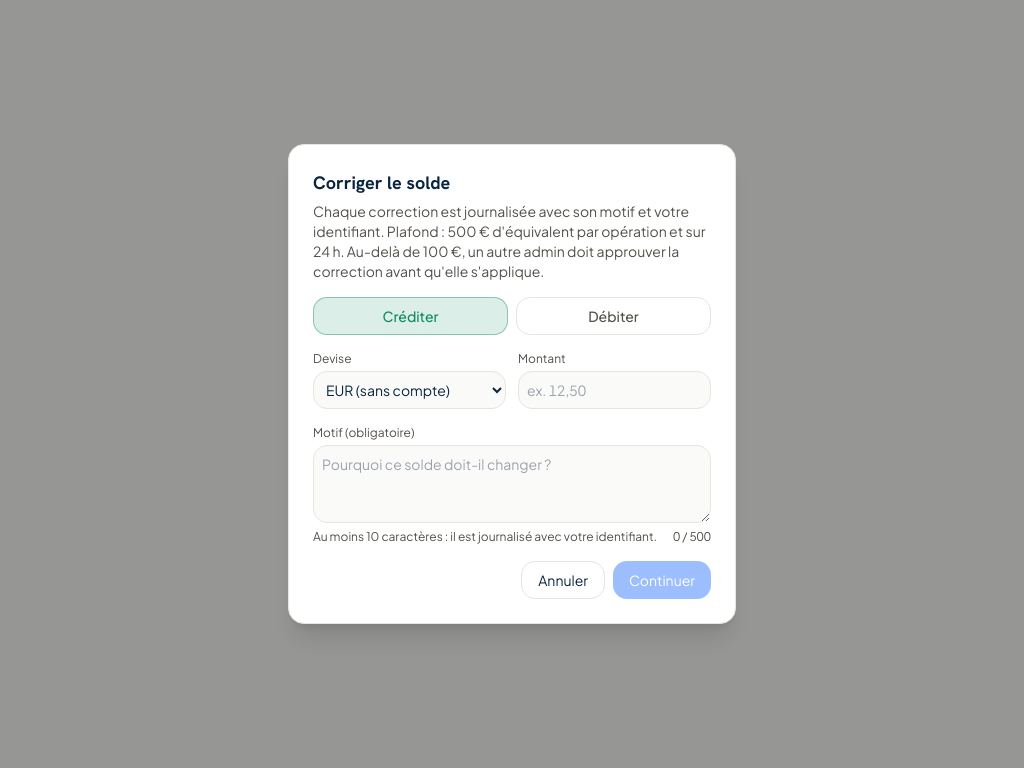
Test: WalletAdjustmentDialog › sans aucun compte, un crédit en EUR reste possible
Expected: the dropdown with test id "adj-currency" shows "EUR (sans compte)", [313,371,506,409]
Type "3" into the field with test id "adj-amount".
click(614, 390); type("3")  # box [518,371,711,409]
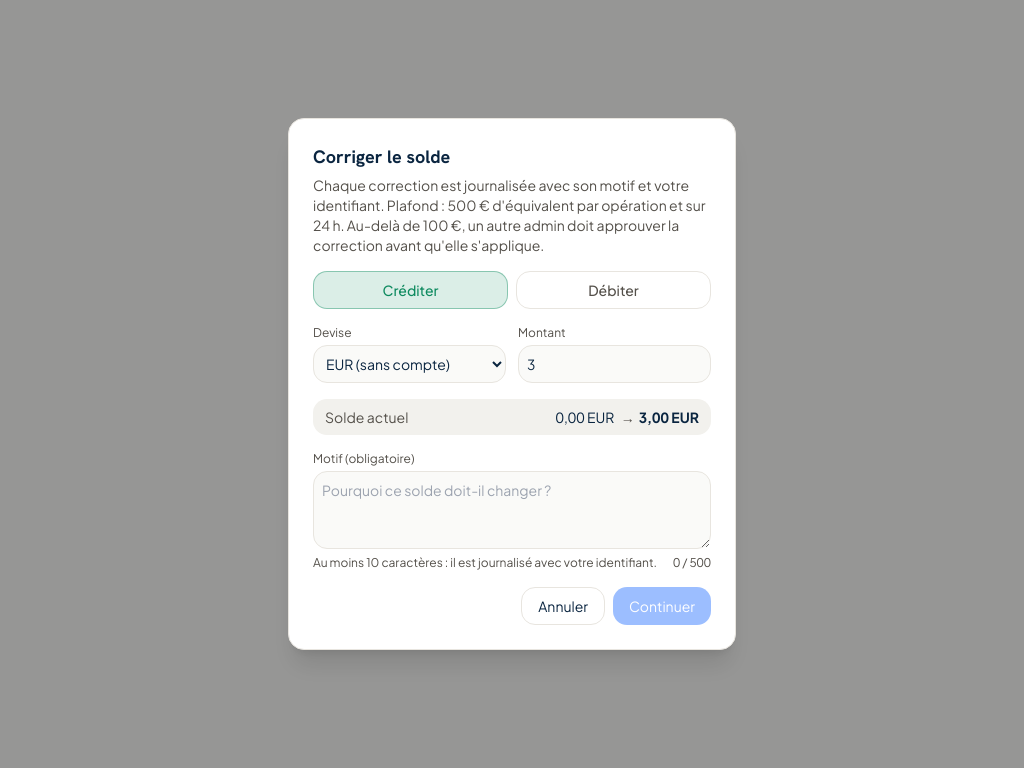
Type "Geste commercial après incident de livraison" into the text box with test id "adj-reason".
click(512, 510); type("Geste commercial après incident de livraison")  # box [313,471,711,549]
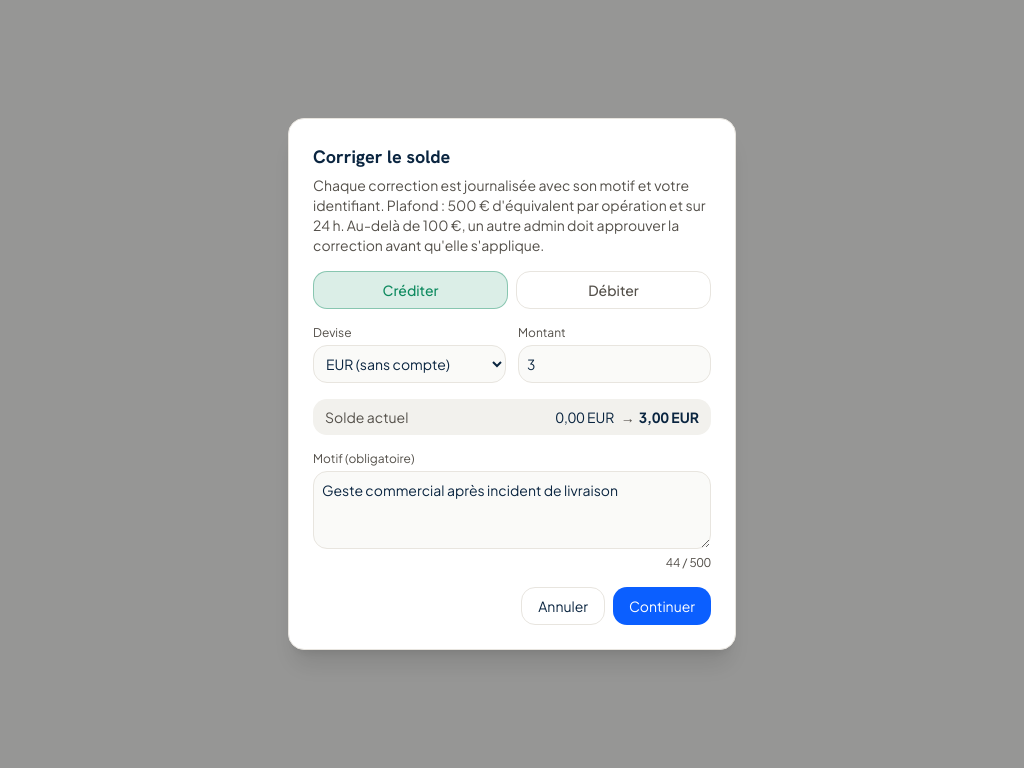
Now the button with test id "adj-continue" is enabled, box [613,587,711,625]
